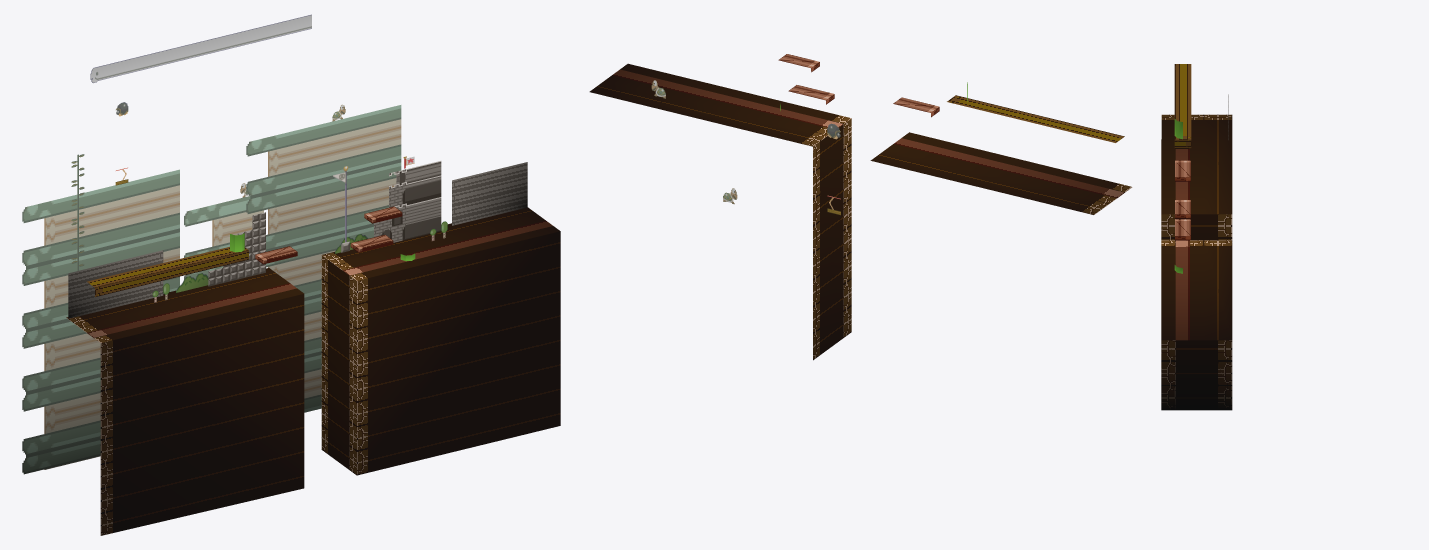
File: MushroomKingdom.glb
3 views of the same model, side by side, from view 1: azimuth 30°, elevation 25°; view 2: azimuth 150°, elevation 25°; view 3: azimuth 270°, elevation 25° (orthographic). The views are drawn at different scales.
Parts seen in each view (by area): view 1: MushroomKingdom_8, MushroomKingdom_Alpha_0, MushroomKingdom_9, MushroomKingdom_22, MushroomKingdom_Alpha_15, MushroomKingdom_Alpha_3, MushroomKingdom_25, MushroomKingdom_21, MushroomKingdom_Alpha_6, MushroomKingdom_Alpha_14, MushroomKingdom_27, MushroomKingdom_24; view 2: MushroomKingdom_8, MushroomKingdom_22, MushroomKingdom_25, MushroomKingdom_27, MushroomKingdom_21, MushroomKingdom_24; view 3: MushroomKingdom_8, MushroomKingdom_22, MushroomKingdom_25, MushroomKingdom_27, MushroomKingdom_21, MushroomKingdom_24.
Part boxes in pixels (x1,y1,x2,y2): MushroomKingdom_8: (66, 207, 560, 535); MushroomKingdom_Alpha_0: (22, 105, 401, 474); MushroomKingdom_9: (68, 162, 527, 318); MushroomKingdom_22: (80, 215, 560, 342); MushroomKingdom_Alpha_15: (374, 161, 441, 242); MushroomKingdom_Alpha_3: (90, 14, 311, 83); MushroomKingdom_25: (87, 214, 552, 337); MushroomKingdom_21: (87, 247, 248, 296); MushroomKingdom_Alpha_6: (184, 196, 263, 279); MushroomKingdom_Alpha_14: (208, 212, 265, 286); MushroomKingdom_27: (349, 276, 356, 475); MushroomKingdom_24: (255, 206, 401, 260); MushroomKingdom_8: (589, 81, 1108, 360); MushroomKingdom_22: (605, 63, 1132, 203); MushroomKingdom_25: (612, 62, 1124, 198); MushroomKingdom_27: (843, 118, 851, 337); MushroomKingdom_21: (947, 95, 1124, 142); MushroomKingdom_24: (778, 54, 939, 112); MushroomKingdom_8: (1175, 114, 1232, 410); MushroomKingdom_22: (1161, 114, 1204, 340); MushroomKingdom_25: (1175, 149, 1190, 340); MushroomKingdom_27: (1161, 214, 1175, 410); MushroomKingdom_21: (1174, 64, 1191, 148); MushroomKingdom_24: (1175, 160, 1190, 236).
Bounding box in the file's own units: 1909 × 1552 × 906.
Materials: 28 (28 with a texture image).
